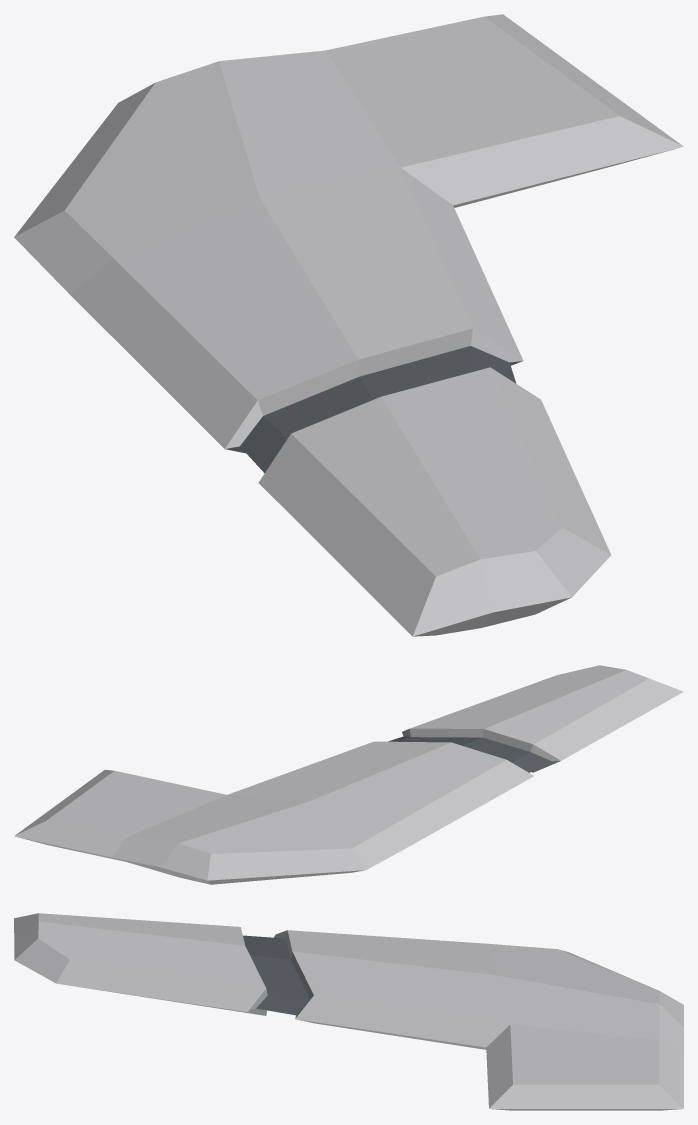
The model's file is Fighter_01_Wings_Right.fbx.
The picture shows the model from 3 angles, top to bottom: view 1: azimuth 30°, elevation 25°; view 2: azimuth 150°, elevation 25°; view 3: azimuth 270°, elevation 25°; orthographic projection. The views are drawn at different scales.
Parts seen in each view (by area): view 1: Fighter_01_Wings_Right; view 2: Fighter_01_Wings_Right; view 3: Fighter_01_Wings_Right.
Part boxes in pixels (box(x1,y1,x2,y2)): Fighter_01_Wings_Right: box(14, 14, 683, 636); Fighter_01_Wings_Right: box(14, 665, 683, 884); Fighter_01_Wings_Right: box(14, 913, 683, 1110).
Size of the model in its own units: 319 by 30.13 by 482.
Materials: 1 (1 with a texture image).
